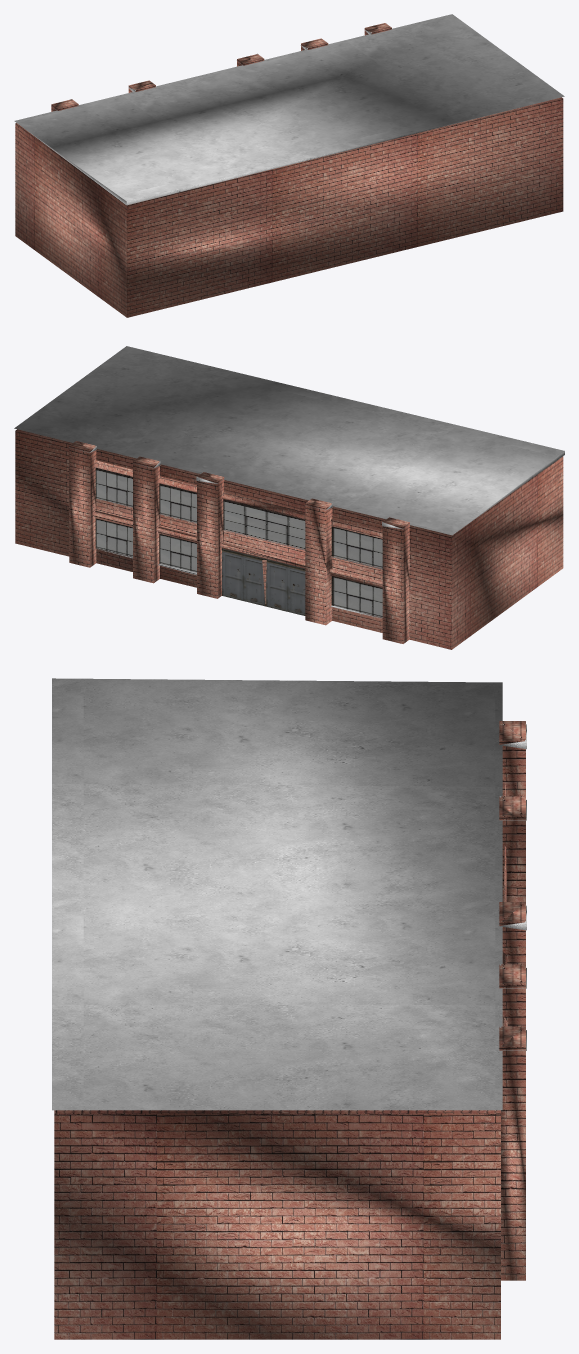
File: Building1_single_p6.fbx
3 renders of one model, top to bottom at view 1: azimuth 30°, elevation 25°; view 2: azimuth 150°, elevation 25°; view 3: azimuth 270°, elevation 25°, orthographic. The views are drawn at different scales.
Visible parts, largest first — view 1: Plane008; view 2: Plane008; view 3: Plane008.
Boxes of the visible parts, box(x1,y1,x2,y2) form: Plane008: box(14, 14, 564, 317); Plane008: box(14, 346, 564, 649); Plane008: box(52, 678, 526, 1339).
Bounding box in the file's own units: 31740 × 8104 × 14887.
